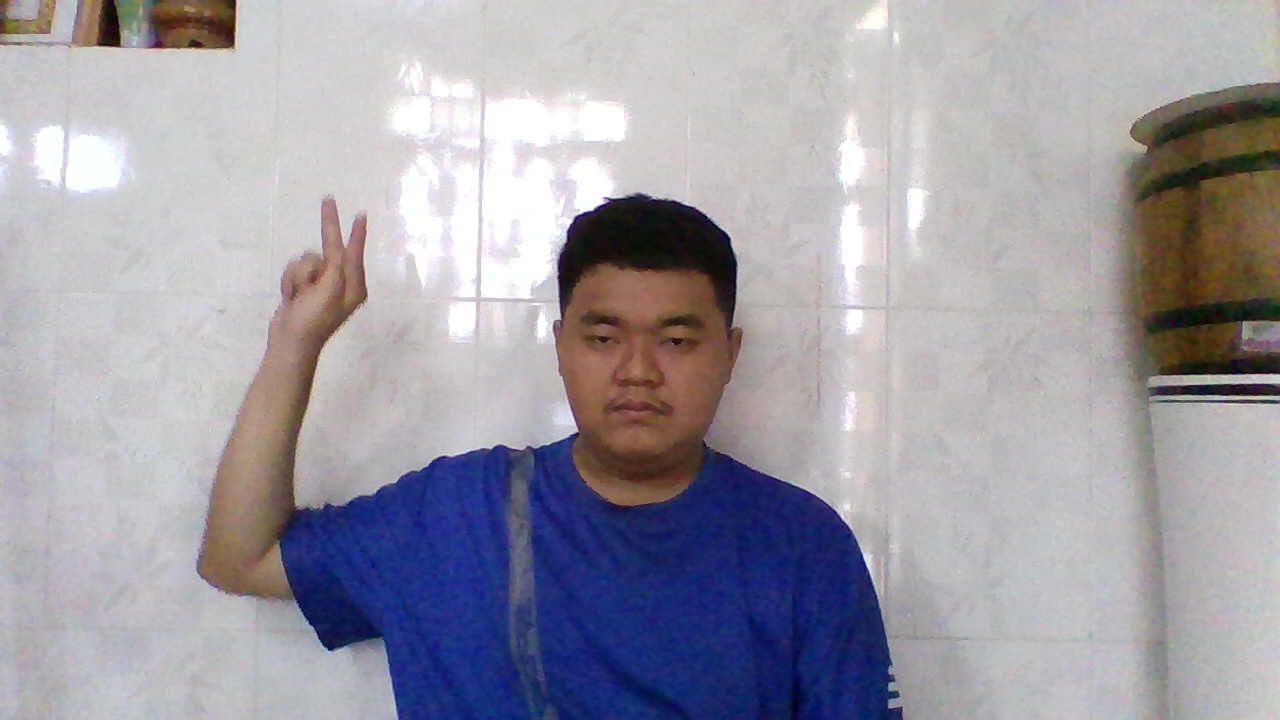K: (270, 198, 377, 348)
